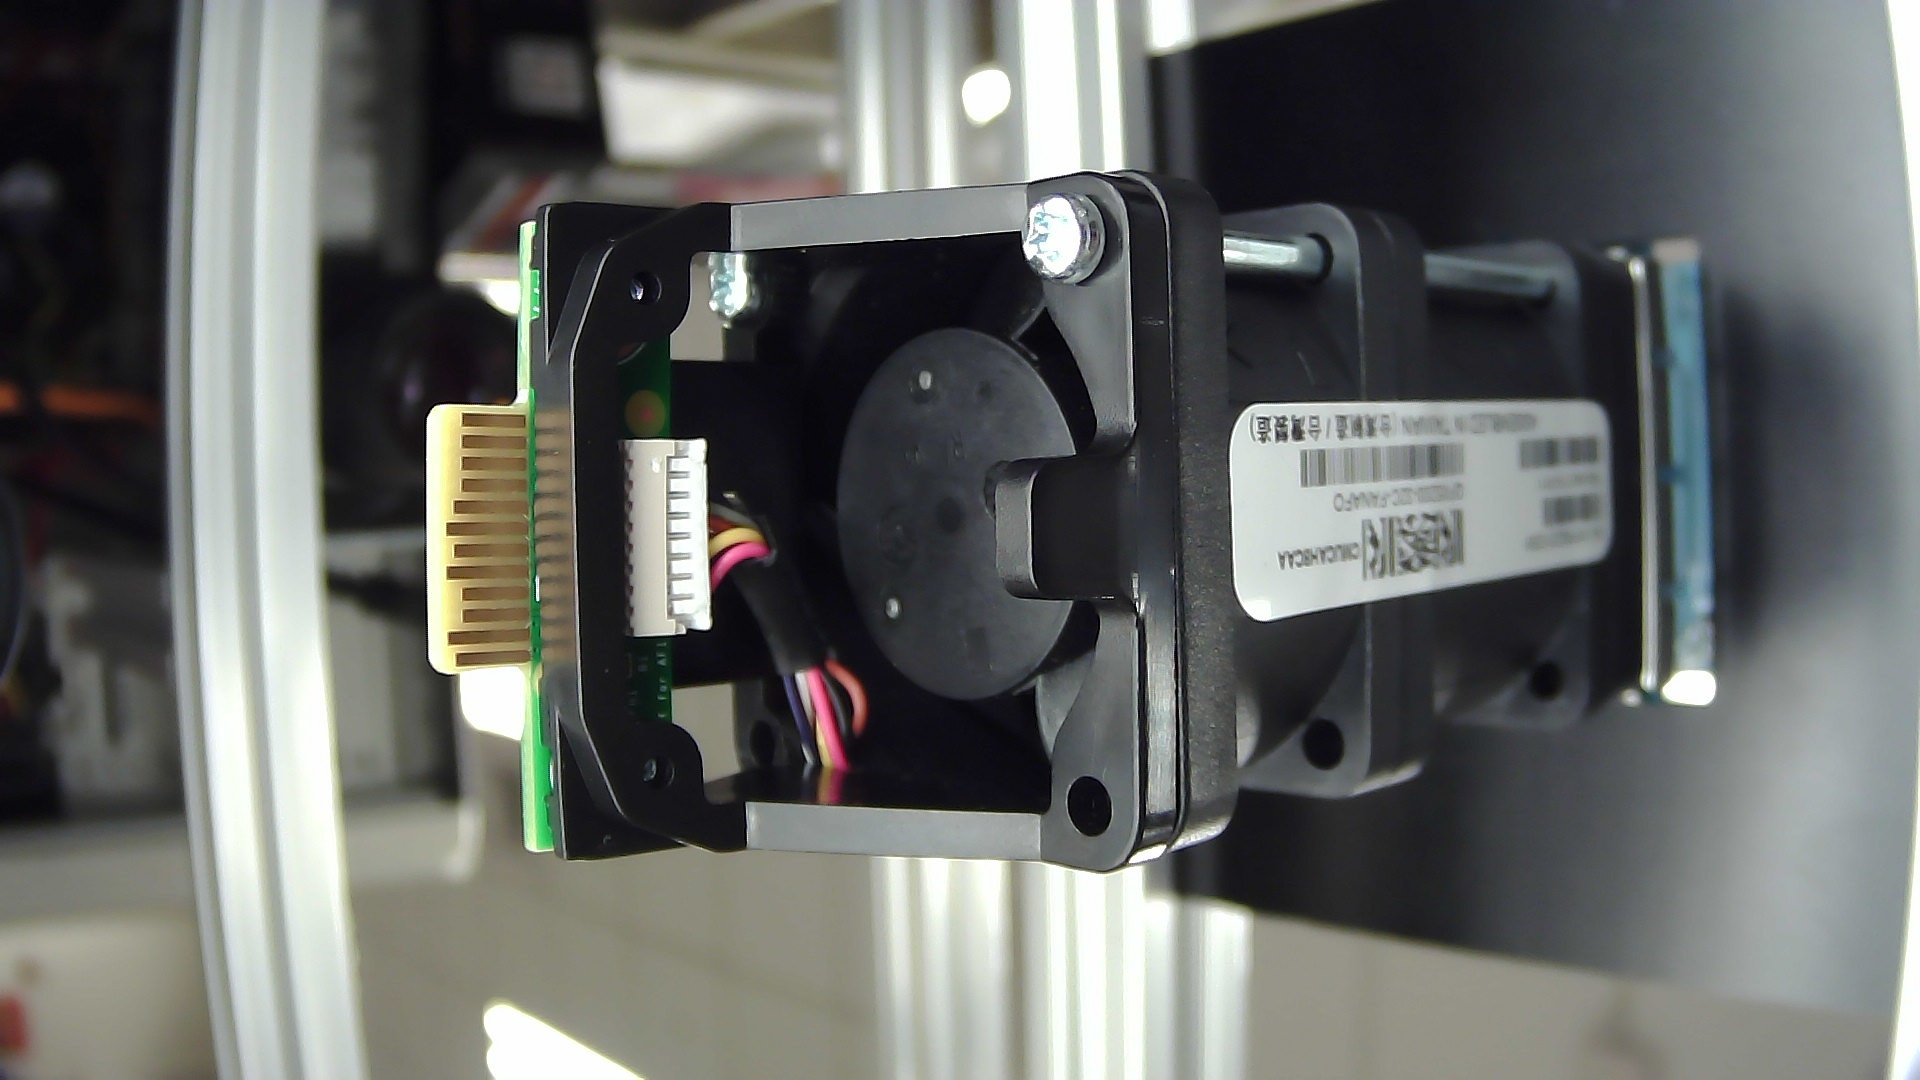8_2: (655, 446, 676, 637)
